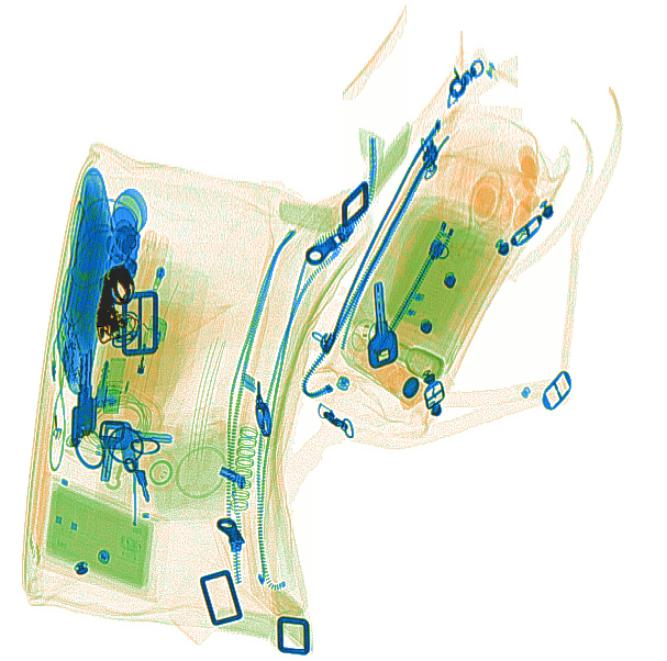USBFlashDisk: (101, 355, 127, 418)
lighter: (127, 314, 171, 421)
